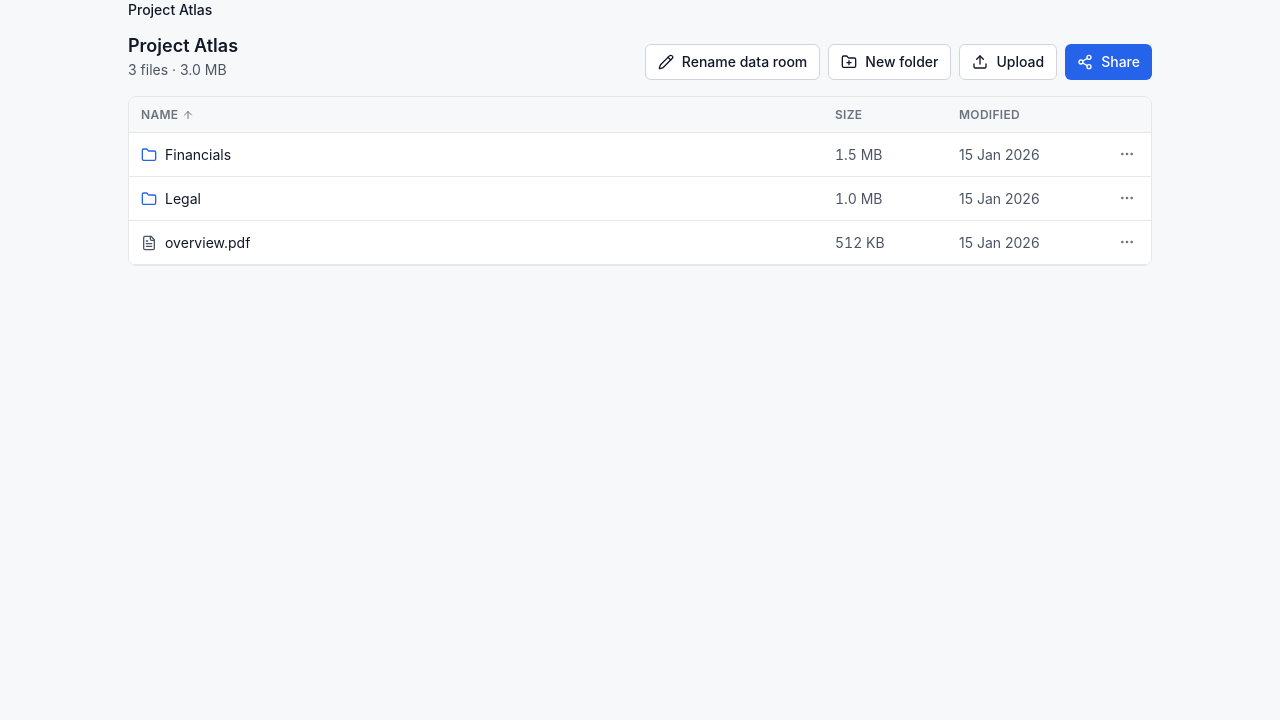
Test: DeleteConfirmDialog › does not ask for a typed name for a small subtree
Expected: the button "Financials" is shown, [141,144,231,164]
Click the button named "Actions for Financials".
click(1127, 154)  # box [1115,142,1139,166]
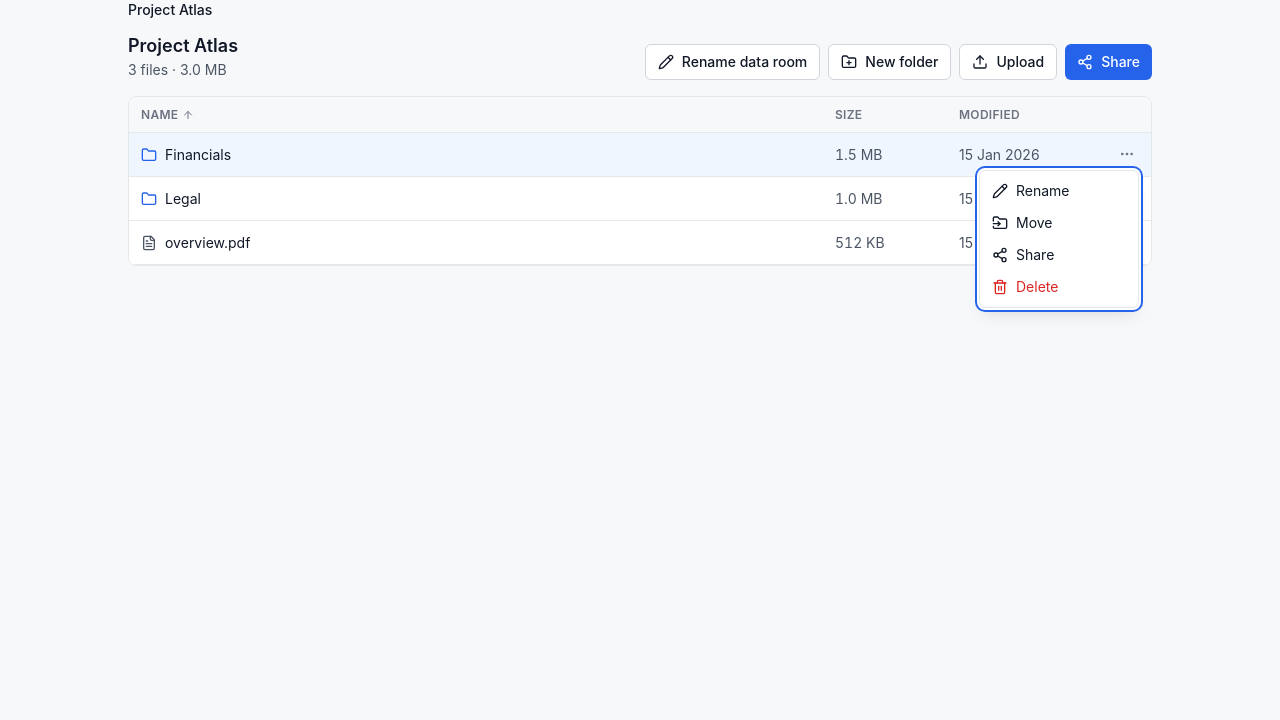
Click the menu item "Delete".
click(1025, 286)  # box [992,278,1058,295]
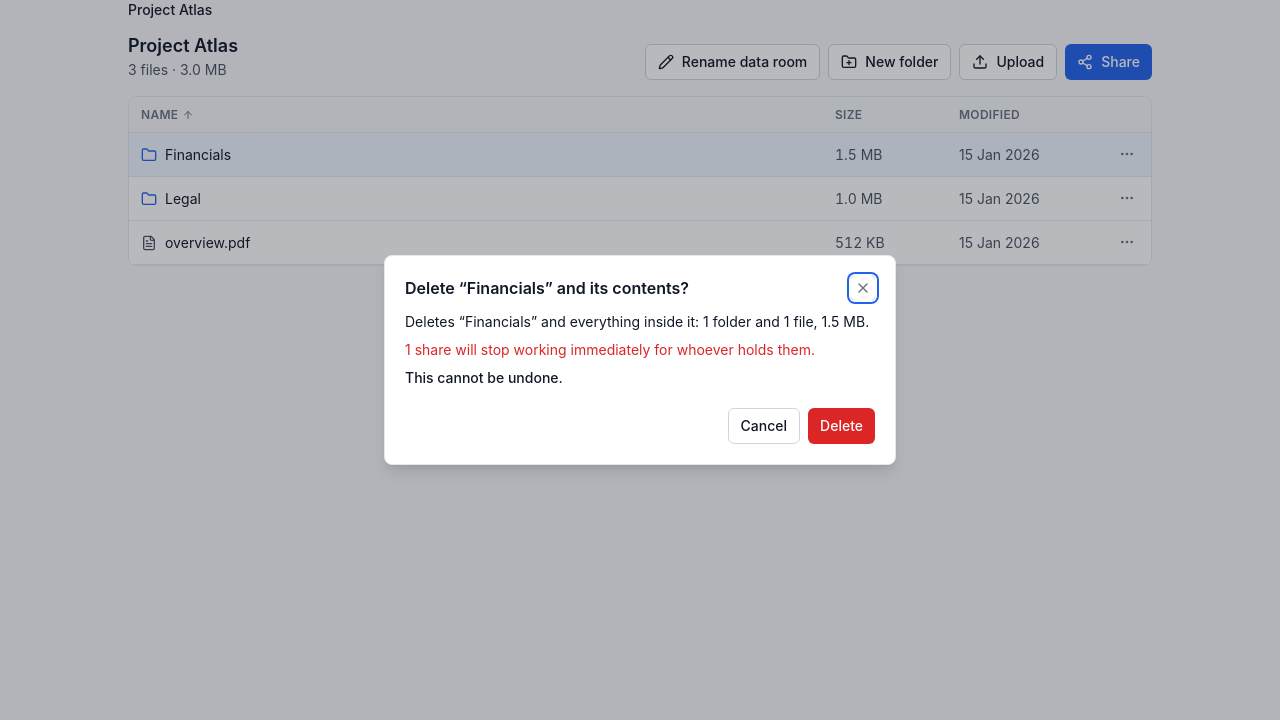
Expected: the button "Delete" is enabled, [808,408,875,444]
